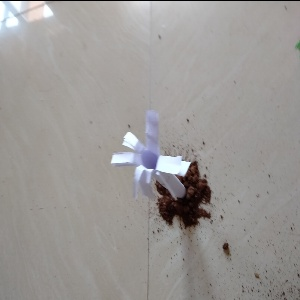weed: (116, 110, 205, 209)
